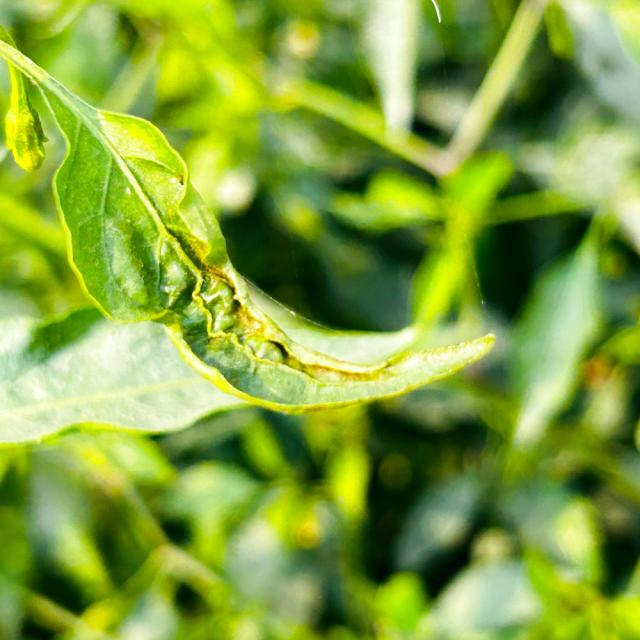Chilli_Leaf_Curl: (1, 2, 638, 637), (1, 30, 498, 419)
